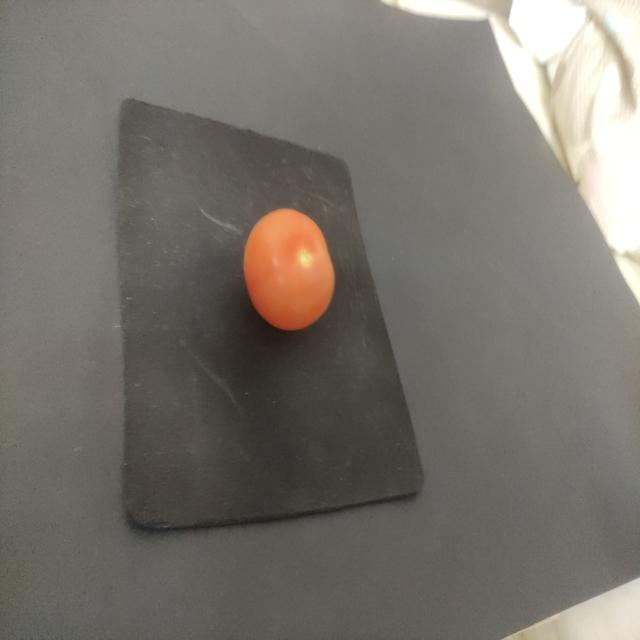sari: (234, 188, 343, 341)
